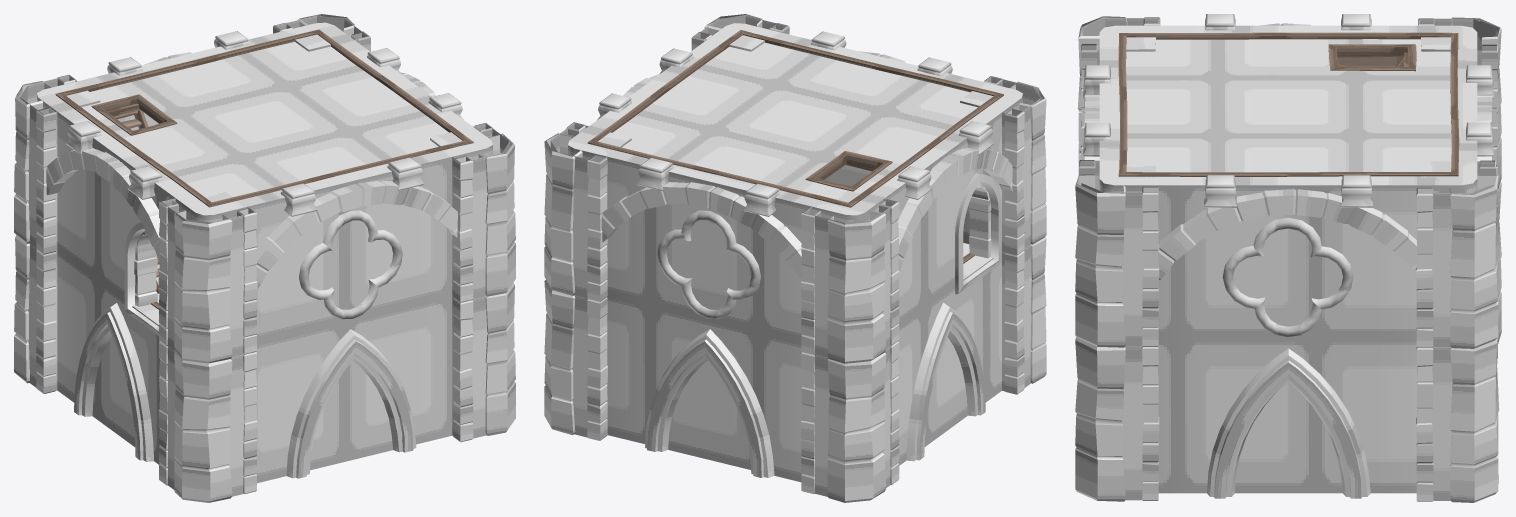
The model's file is SM_TowerF_Mid_02.fbx.
3 renders of one model, left to right at view 1: azimuth 30°, elevation 25°; view 2: azimuth 150°, elevation 25°; view 3: azimuth 270°, elevation 25°, orthographic. The views are drawn at different scales.
Visible parts, largest first — view 1: SM_TowerF_Mid_02_LOD0; view 2: SM_TowerF_Mid_02_LOD0; view 3: SM_TowerF_Mid_02_LOD0.
Part boxes in pixels (bbox=[...]): SM_TowerF_Mid_02_LOD0: bbox=[14, 14, 515, 502]; SM_TowerF_Mid_02_LOD0: bbox=[544, 14, 1046, 502]; SM_TowerF_Mid_02_LOD0: bbox=[1075, 14, 1501, 502].
Size of the model in its own units: 1129 by 1129 by 929.
